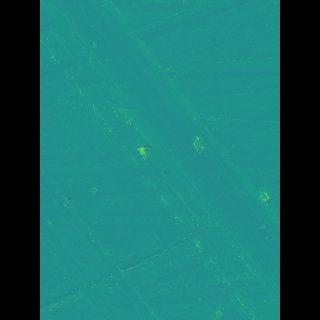Loch: (71, 0, 250, 303), (68, 175, 159, 319)
